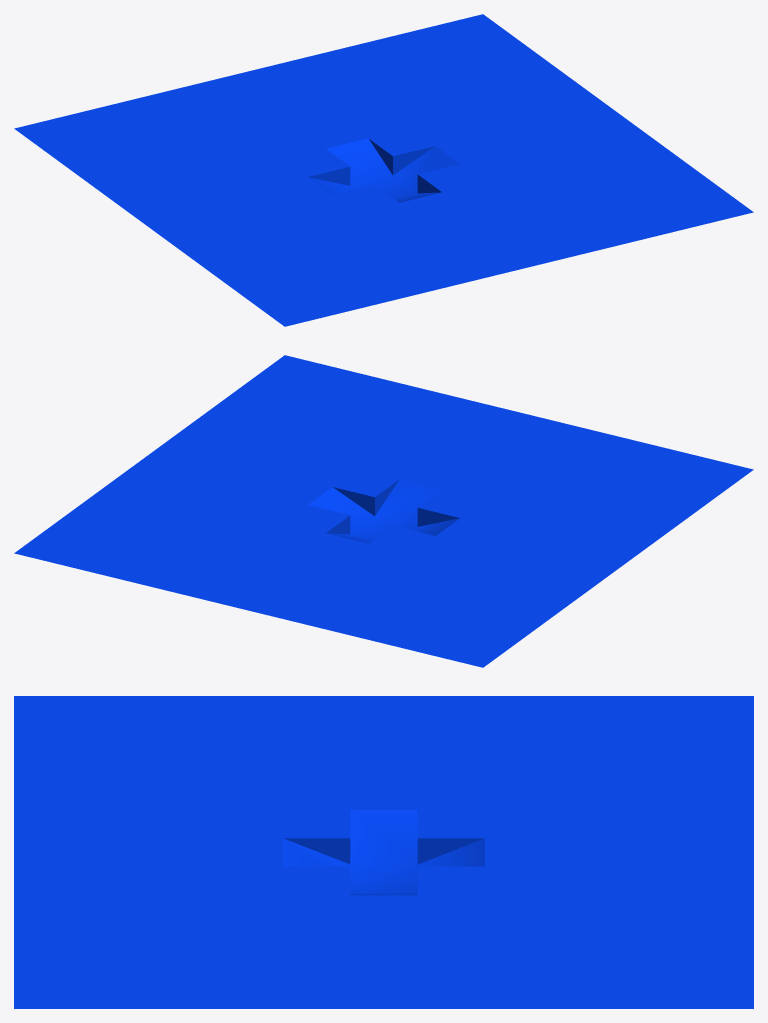
The model's file is Progeny Floor.FBX.
3 renders of one model, top to bottom at view 1: azimuth 30°, elevation 25°; view 2: azimuth 150°, elevation 25°; view 3: azimuth 270°, elevation 25°, orthographic. The views are drawn at different scales.
Parts seen in each view (by area): view 1: Object089, Object086, Object100, Object098, Object088, Object084, Floor007, Object094, Object087, Object085, Floor1, Floor3 (+20 smaller); view 2: Object089, Object086, Object098, Object100, Object090, Object096, Object082, FLoor001, Object091, Object081, Floor, Floor1 (+20 smaller); view 3: Object089, Object100, Object098, Object086, Object095, Object096, Object094, Object092, Object091, Object087, Object090, Object088 (+20 smaller).
Boxes of the visible parts, x1,y1,x2,y2 form: Object089: (369, 117, 527, 192); Object086: (308, 138, 459, 202); Object100: (588, 122, 753, 222); Object098: (441, 14, 605, 114); Object088: (319, 81, 453, 138); Object084: (234, 102, 367, 158); Floor007: (149, 123, 282, 179); Object094: (478, 114, 612, 171); Object087: (270, 45, 403, 101); Object085: (185, 66, 318, 122); Floor1: (63, 144, 197, 200); Floor3: (162, 216, 295, 272); Object089: (240, 458, 398, 533); Object086: (308, 479, 459, 543); Object098: (14, 463, 179, 563); Object100: (162, 355, 326, 455); Object090: (314, 422, 448, 479); Object096: (81, 509, 215, 566); Object082: (400, 443, 533, 499); FLoor001: (460, 482, 594, 538); Object091: (364, 386, 497, 442); Object081: (449, 407, 582, 463); Floor: (398, 611, 531, 667); Floor1: (447, 575, 581, 631); Object089: (283, 866, 484, 923); Object100: (14, 980, 350, 1008); Object098: (417, 980, 753, 1008); Object086: (283, 810, 484, 895); Object095: (417, 923, 552, 980); Object096: (552, 923, 686, 980); Object094: (283, 923, 417, 980); Object092: (14, 923, 148, 980); Object091: (14, 866, 148, 923); Object087: (619, 866, 753, 923); Object090: (148, 866, 282, 923); Object088: (485, 866, 619, 923).
Size of the model in its own units: 103 by 4.05 by 103.
